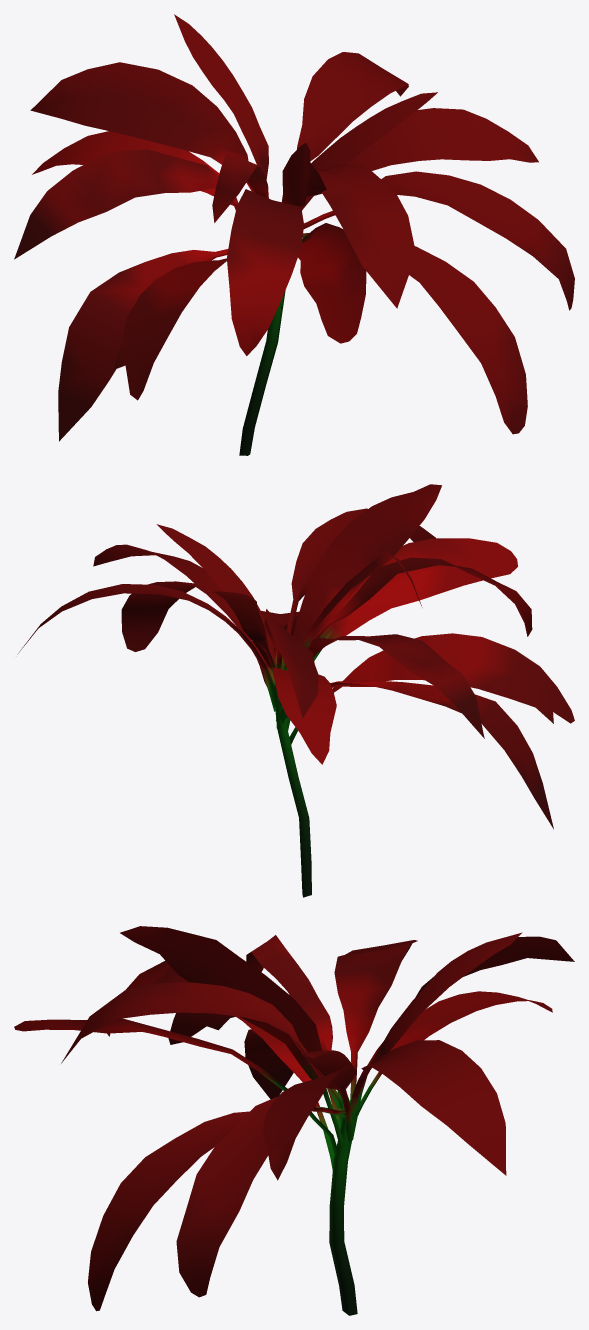
File: Var10_LOD0.fbx
3 renders of one model, top to bottom at view 1: azimuth 30°, elevation 25°; view 2: azimuth 150°, elevation 25°; view 3: azimuth 270°, elevation 25°, orthographic. The views are drawn at different scales.
Parts seen in each view (by area): view 1: _c61a_Var10_LOD0; view 2: _c61a_Var10_LOD0; view 3: _c61a_Var10_LOD0.
Part boxes in pixels (x1=…): _c61a_Var10_LOD0: x1=14, y1=14, x2=574, y2=455; _c61a_Var10_LOD0: x1=17, y1=484, x2=574, y2=897; _c61a_Var10_LOD0: x1=14, y1=926, x2=574, y2=1315.
Bounding box in the file's own units: 33.03 × 24.55 × 32.18.
